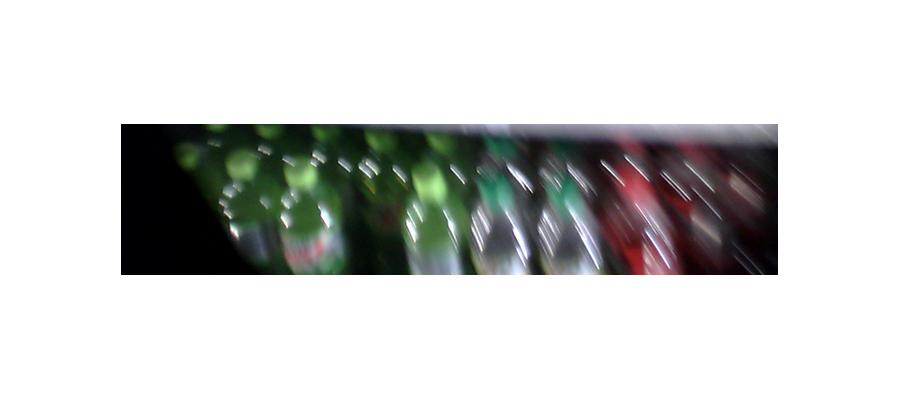bottle: (599, 143, 678, 280), (470, 145, 535, 281), (536, 146, 601, 280), (351, 127, 412, 269), (402, 144, 468, 274), (275, 143, 342, 266), (221, 149, 280, 262)
